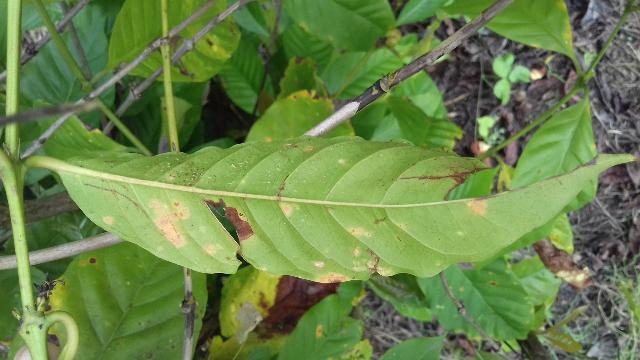rust_level_1: (54, 132, 640, 285)
